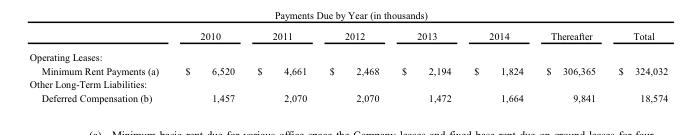table: (28, 28, 667, 104)
table column: (28, 28, 171, 104), (171, 28, 245, 104), (461, 28, 534, 104), (245, 28, 317, 104), (317, 28, 389, 104), (389, 28, 461, 104), (534, 28, 606, 104), (606, 28, 667, 104)
table column header: (28, 28, 667, 45)
table projected row header: (28, 45, 667, 63), (28, 76, 667, 90)
table row: (28, 45, 667, 63), (28, 28, 667, 45), (28, 76, 667, 90), (28, 90, 667, 104), (28, 63, 667, 76)
